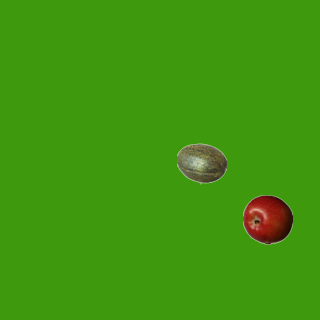Apple Braeburn: (242, 194, 292, 244)
Melon Piel de Sapo: (176, 138, 226, 188)
